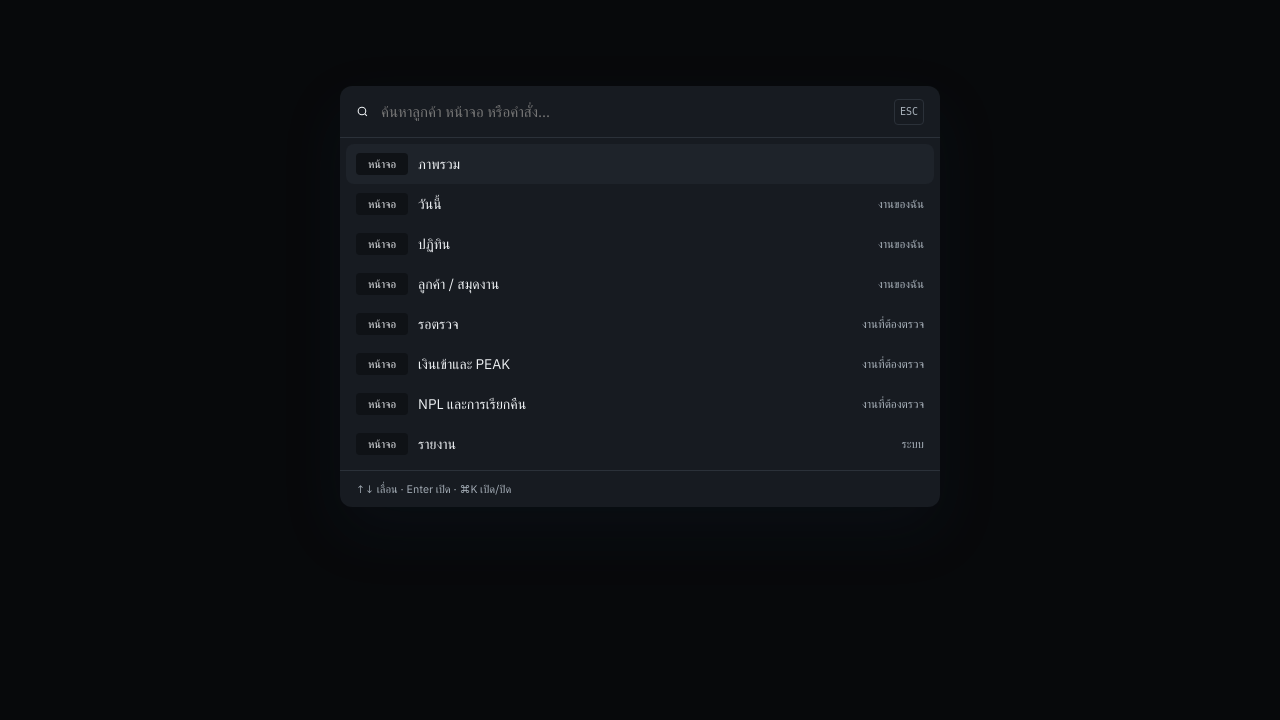
Scenario: the customer command palette › shows the invoice preview empty state
Type "ป" into the field. click: (631, 112)
box: [379,101,884,122]
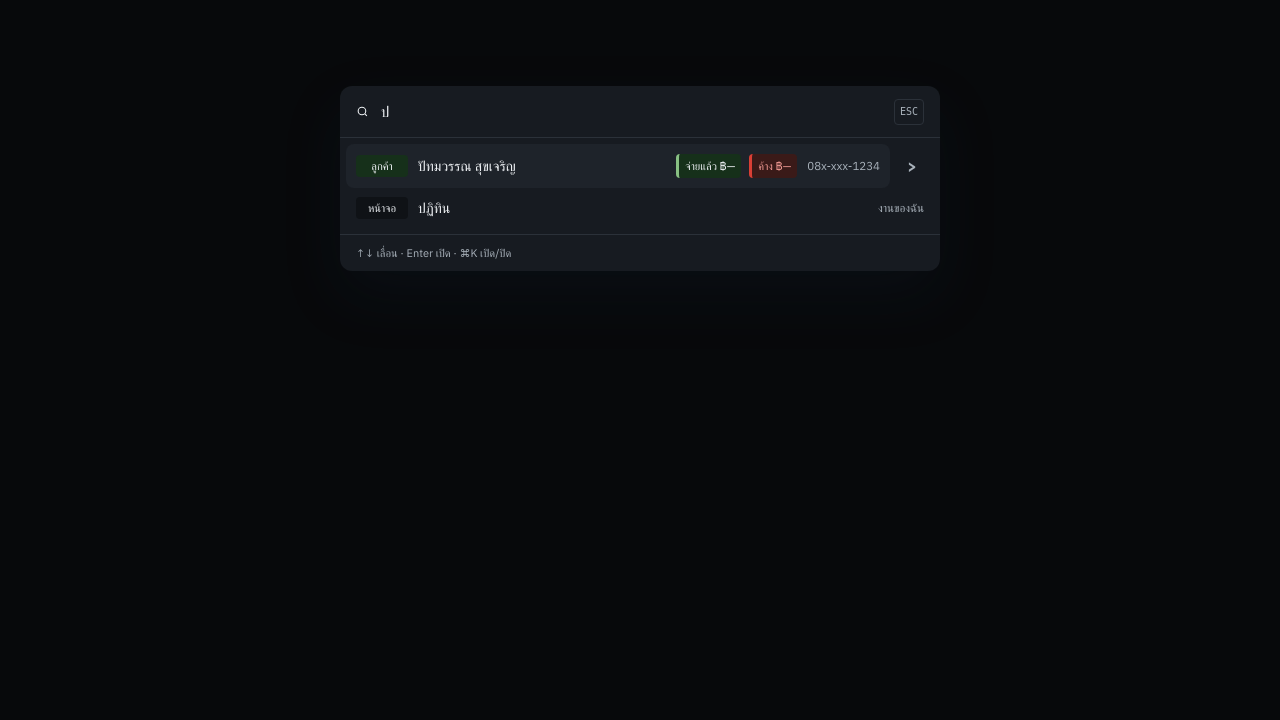
Focus the button named "ดูสถานะใบแจ้งหนี้ของ ปัทมวรรณ สุขเจริญ". click: (912, 166)
box: [890,144,934,188]
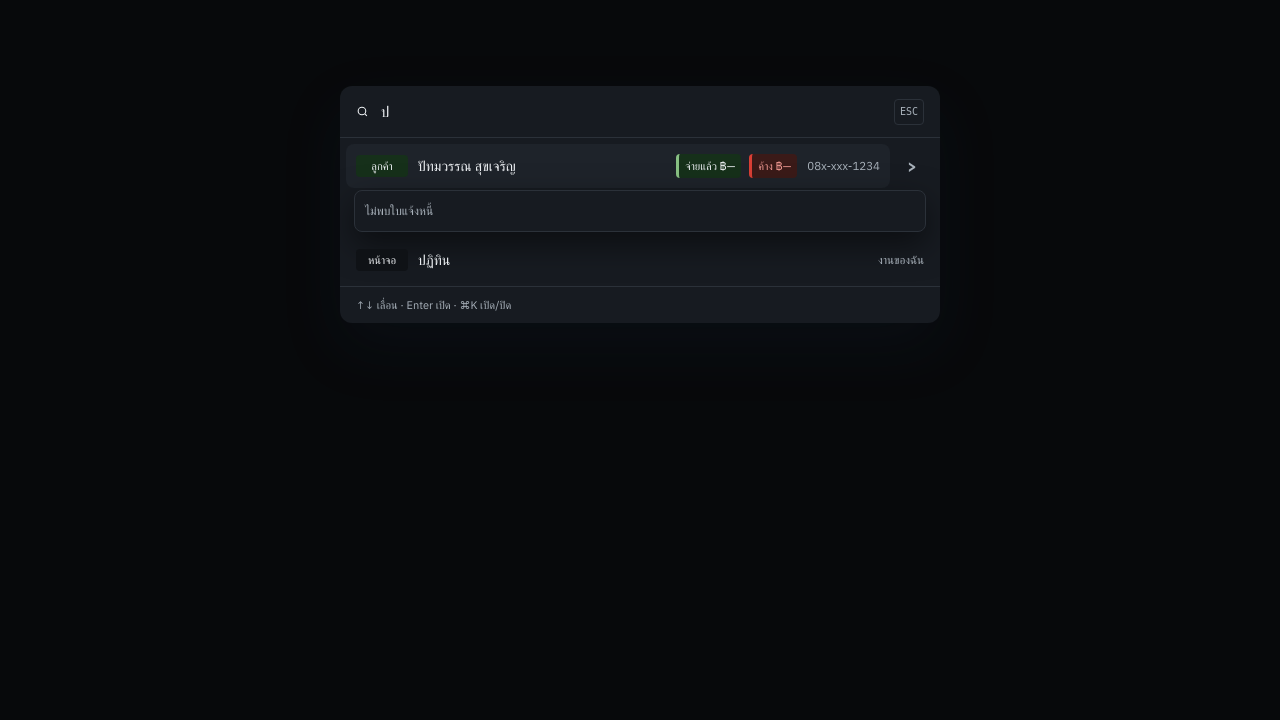
Check: the text "ไม่พบใบแจ้งหนี้" is shown, box [354,190,926,232]
